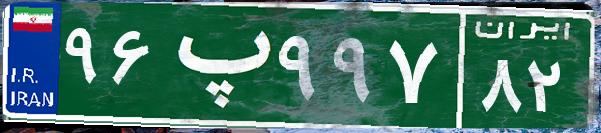2: (525, 38, 570, 115)
6: (110, 28, 158, 105)
7: (385, 28, 445, 110)
8: (475, 38, 525, 113)
9: (273, 28, 330, 110), (330, 28, 385, 110), (57, 26, 110, 107)
پ: (158, 15, 273, 115)
